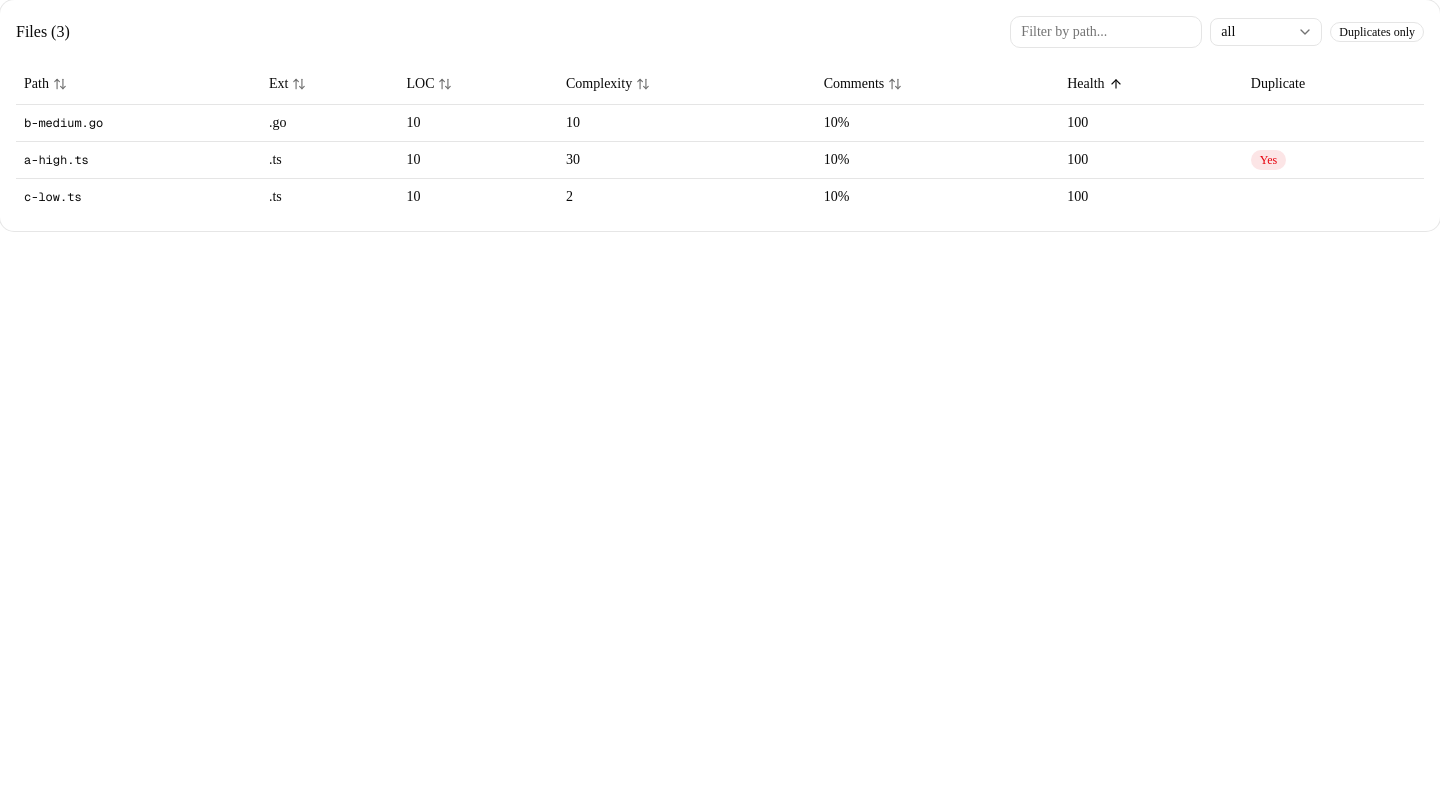
FileTable › opens a detail sheet with the file's metrics when a row is clicked
Click the cell titled "a-high.ts". click: x=56, y=160
box: [16,141,261,178]
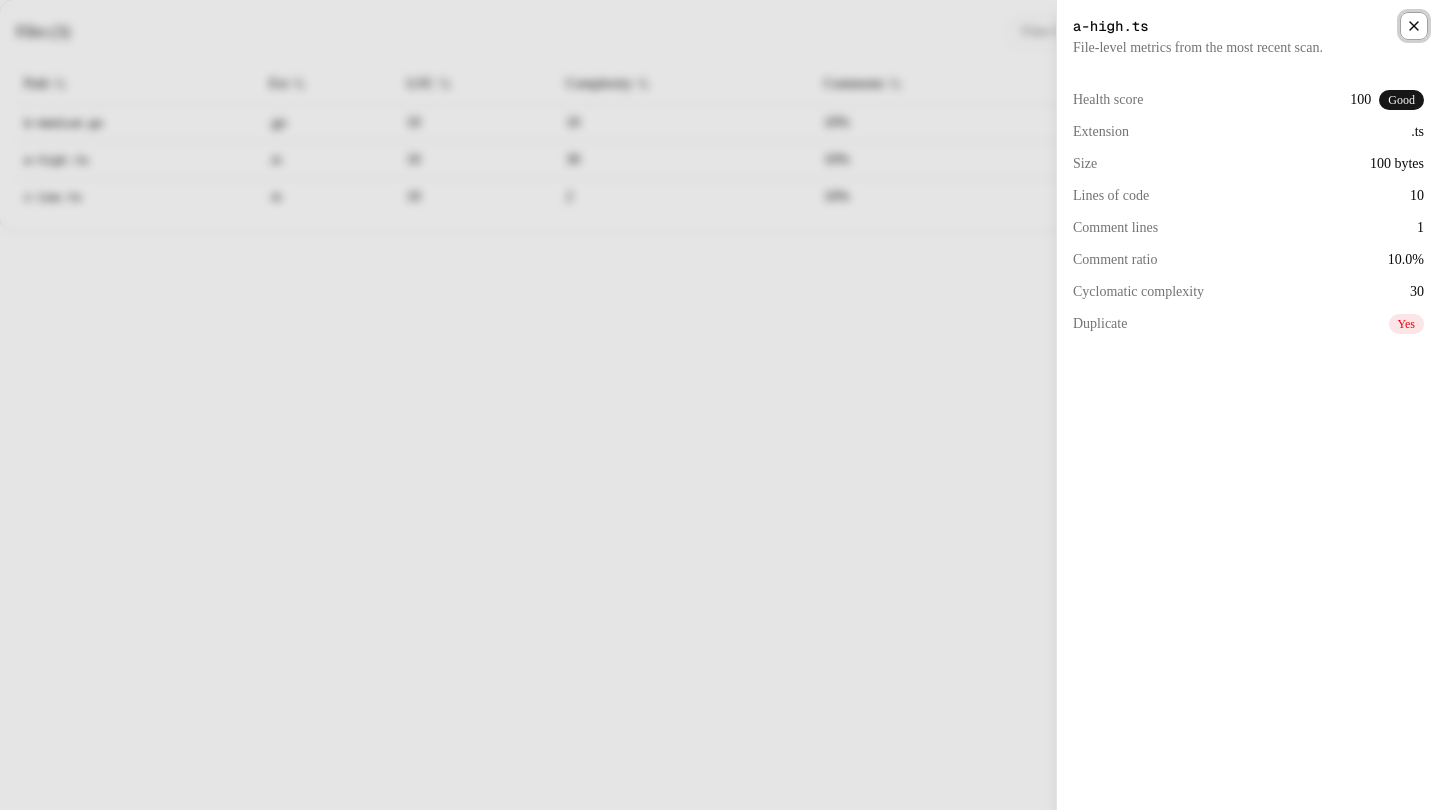
Expected: the heading "a-high.ts" is shown, [1073,17,1149,35]
Expected: the text "30" is shown, [1410,282,1424,302]
